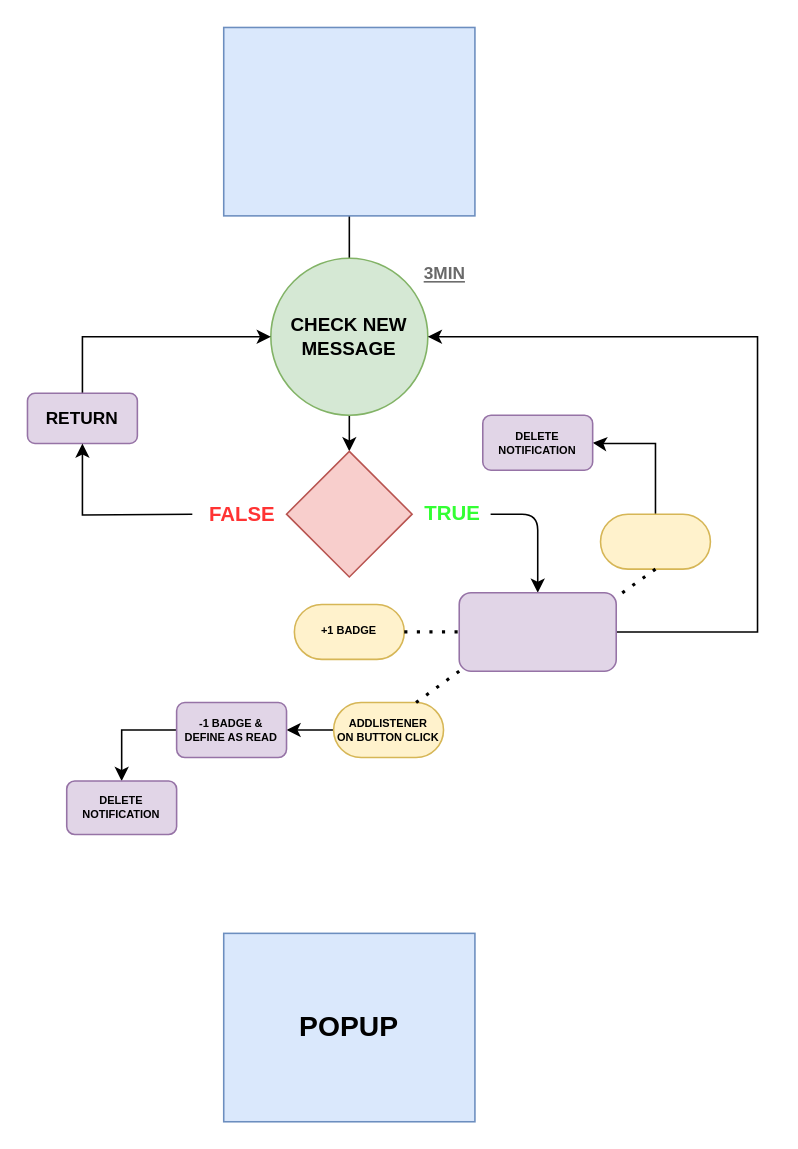
Some shapes in this 798 by 1149 pixel diagram are drawn without their labels. The centre of each missing label's shape, as x and y in pixels:
"ADDLISTENER ON CLICK" goes at pixel 654 541.
"BACKGROUND" goes at pixel 348 121.
"NEW MESSAGE ?" goes at pixel 348 513.
"SEND NOTIFICATION" goes at pixel 537 631.
